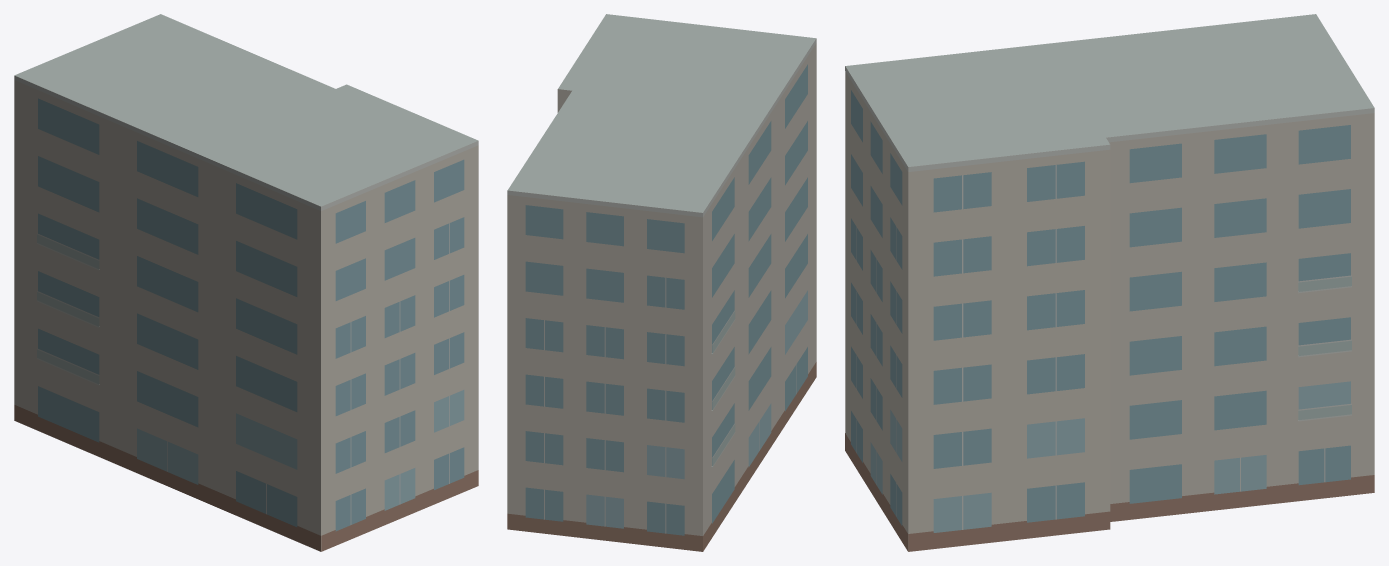
File: survey-upis-32568706.glb
The picture shows the model from 3 angles, left to right: view 1: azimuth 30°, elevation 25°; view 2: azimuth 150°, elevation 25°; view 3: azimuth 270°, elevation 25°; orthographic projection. The views are drawn at different scales.
Visible parts, largest first — view 1: survey-upis-32568706.tmp; view 2: survey-upis-32568706.tmp; view 3: survey-upis-32568706.tmp.
Boxes of the visible parts, bbox=[...] form: survey-upis-32568706.tmp: bbox=[14, 14, 478, 551]; survey-upis-32568706.tmp: bbox=[507, 14, 816, 551]; survey-upis-32568706.tmp: bbox=[845, 14, 1374, 551].
Bounding box in the file's own units: 15.97 × 18.7 × 23.33.
